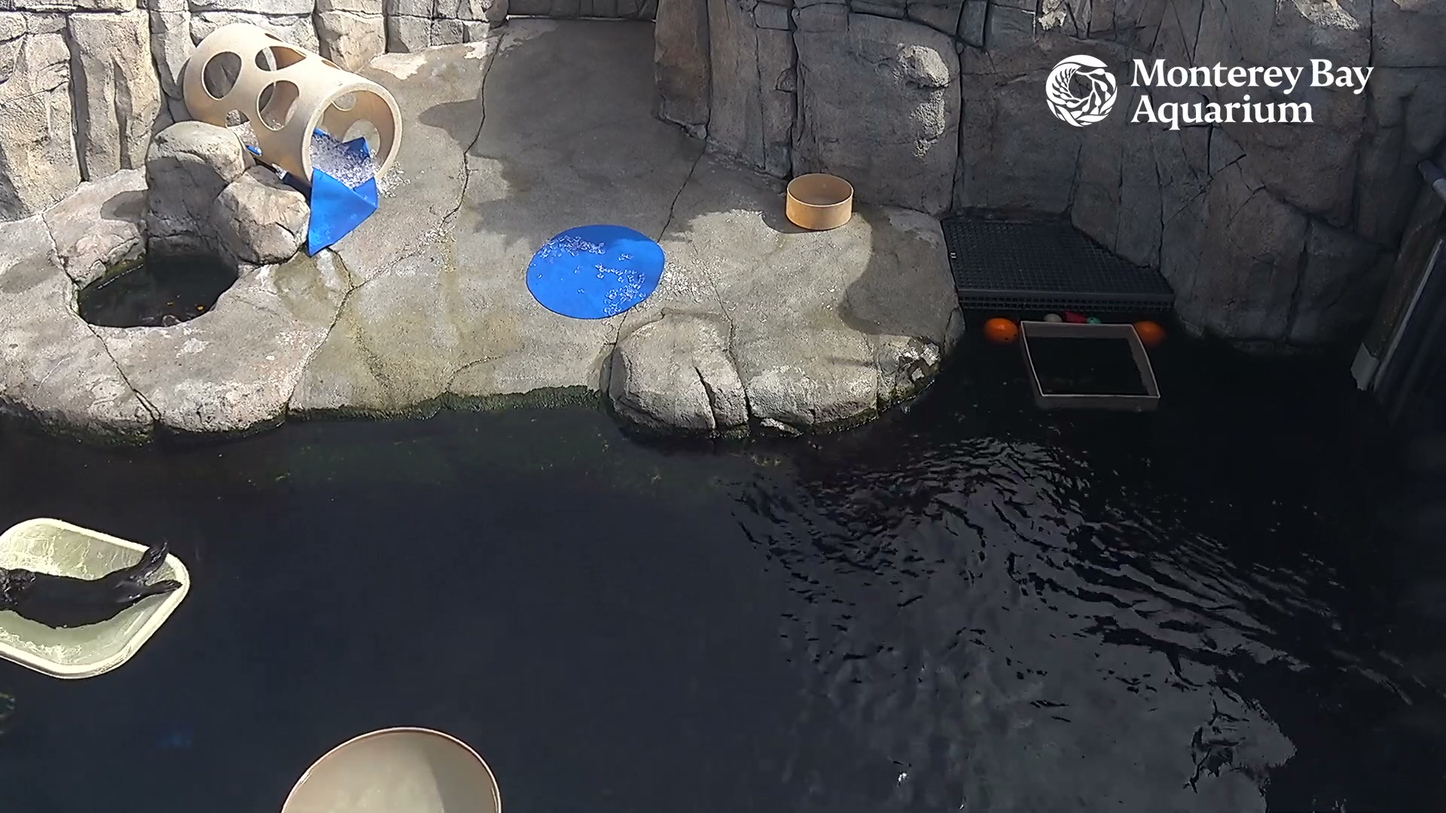Southern Sea Otter: (5, 531, 185, 618)
